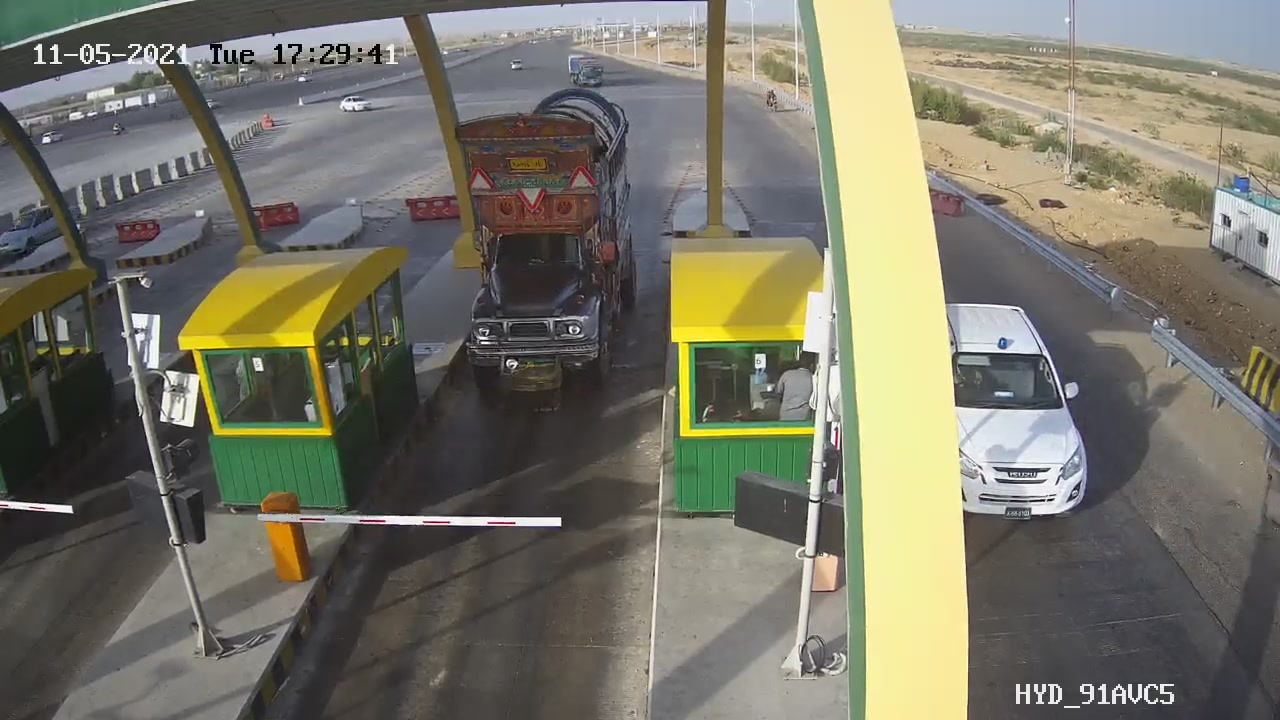F5: (433, 74, 665, 421)
